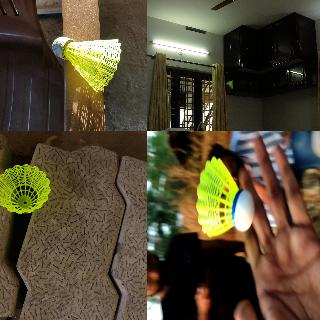shuttlecock: (195, 156, 254, 238), (51, 36, 120, 92), (0, 163, 51, 213), (225, 80, 232, 88)
